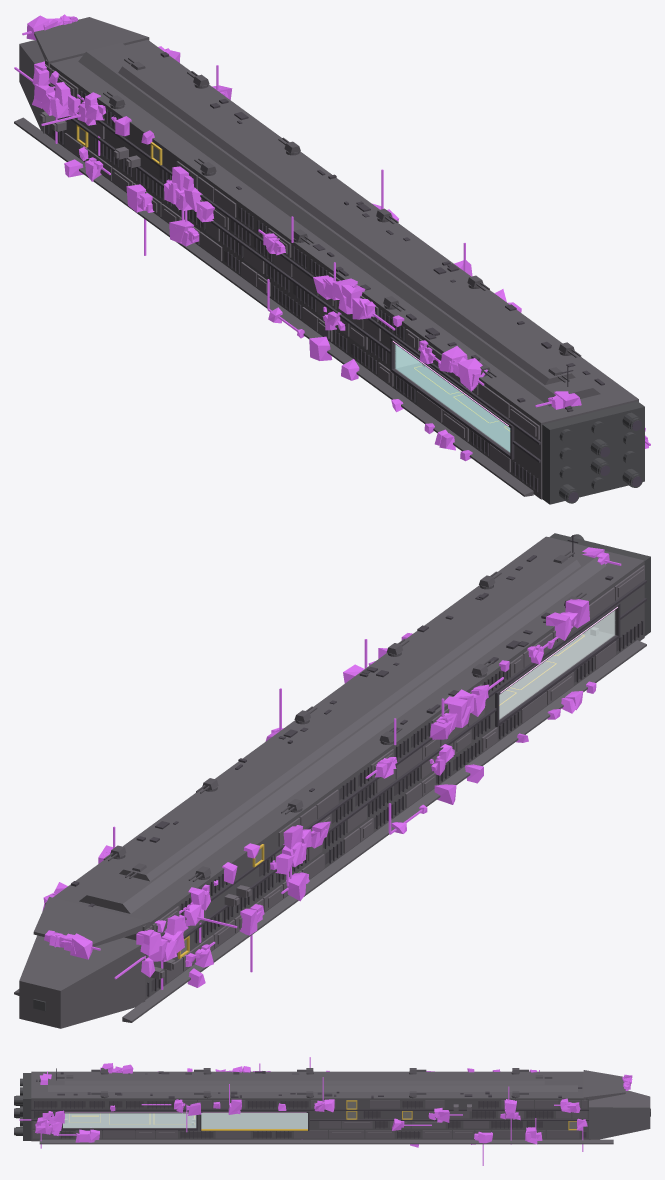
The model's file is ship_XL_v2.glb.
3 renders of one model, top to bottom at view 1: azimuth 30°, elevation 25°; view 2: azimuth 150°, elevation 25°; view 3: azimuth 270°, elevation 25°, orthographic. The views are drawn at different scales.
Parts seen in each view (by area): view 1: XL_Hull-col, XL_Growth, XL_Armor, XL_Trim, XL_Engines, XL_Accent, XL_HangarShield_Port, XL_Decks-col, XL_Details; view 2: XL_Hull-col, XL_Growth, XL_Armor, XL_Trim, XL_Accent, XL_HangarShield_Port, XL_Decks-col, XL_Details, XL_Engines; view 3: XL_Hull-col, XL_Armor, XL_Growth, XL_Trim, XL_Accent, XL_HangarShield_Starboard, XL_Decks-col, XL_CargoBayDoor-col, XL_CargoBayShield, XL_Engines, XL_Hazard, XL_Details (+1 smaller).
Boxes of the visible parts, <box> form: XL_Hull-col: <box>14,17,638,499</box>; XL_Growth: <box>14,14,650,461</box>; XL_Armor: <box>45,65,539,472</box>; XL_Trim: <box>47,83,540,492</box>; XL_Engines: <box>542,401,644,504</box>; XL_Accent: <box>48,91,538,490</box>; XL_HangarShield_Port: <box>395,344,510,451</box>; XL_Decks-col: <box>397,362,510,450</box>; XL_Details: <box>160,52,604,411</box>; XL_Hull-col: <box>14,536,646,1028</box>; XL_Growth: <box>42,547,621,989</box>; XL_Armor: <box>145,565,644,983</box>; XL_Trim: <box>147,580,646,996</box>; XL_Accent: <box>146,622,641,995</box>; XL_HangarShield_Port: <box>499,610,614,719</box>; XL_Decks-col: <box>499,629,613,718</box>; XL_Details: <box>71,535,613,906</box>; XL_Engines: <box>33,533,650,1010</box>; XL_Hull-col: <box>31,1070,650,1144</box>; XL_Armor: <box>32,1100,587,1138</box>; XL_Growth: <box>19,1057,632,1165</box>; XL_Trim: <box>31,1100,588,1138</box>; XL_Accent: <box>34,1101,586,1137</box>; XL_HangarShield_Starboard: <box>63,1113,196,1127</box>; XL_Decks-col: <box>63,1113,196,1127</box>; XL_CargoBayDoor-col: <box>201,1113,307,1128</box>; XL_CargoBayShield: <box>201,1113,307,1128</box>; XL_Engines: <box>14,1073,650,1140</box>; XL_Hazard: <box>69,1100,576,1130</box>; XL_Details: <box>36,1068,582,1098</box>.
Bounding box in the file's own units: 37.61 × 35.23 × 230.
